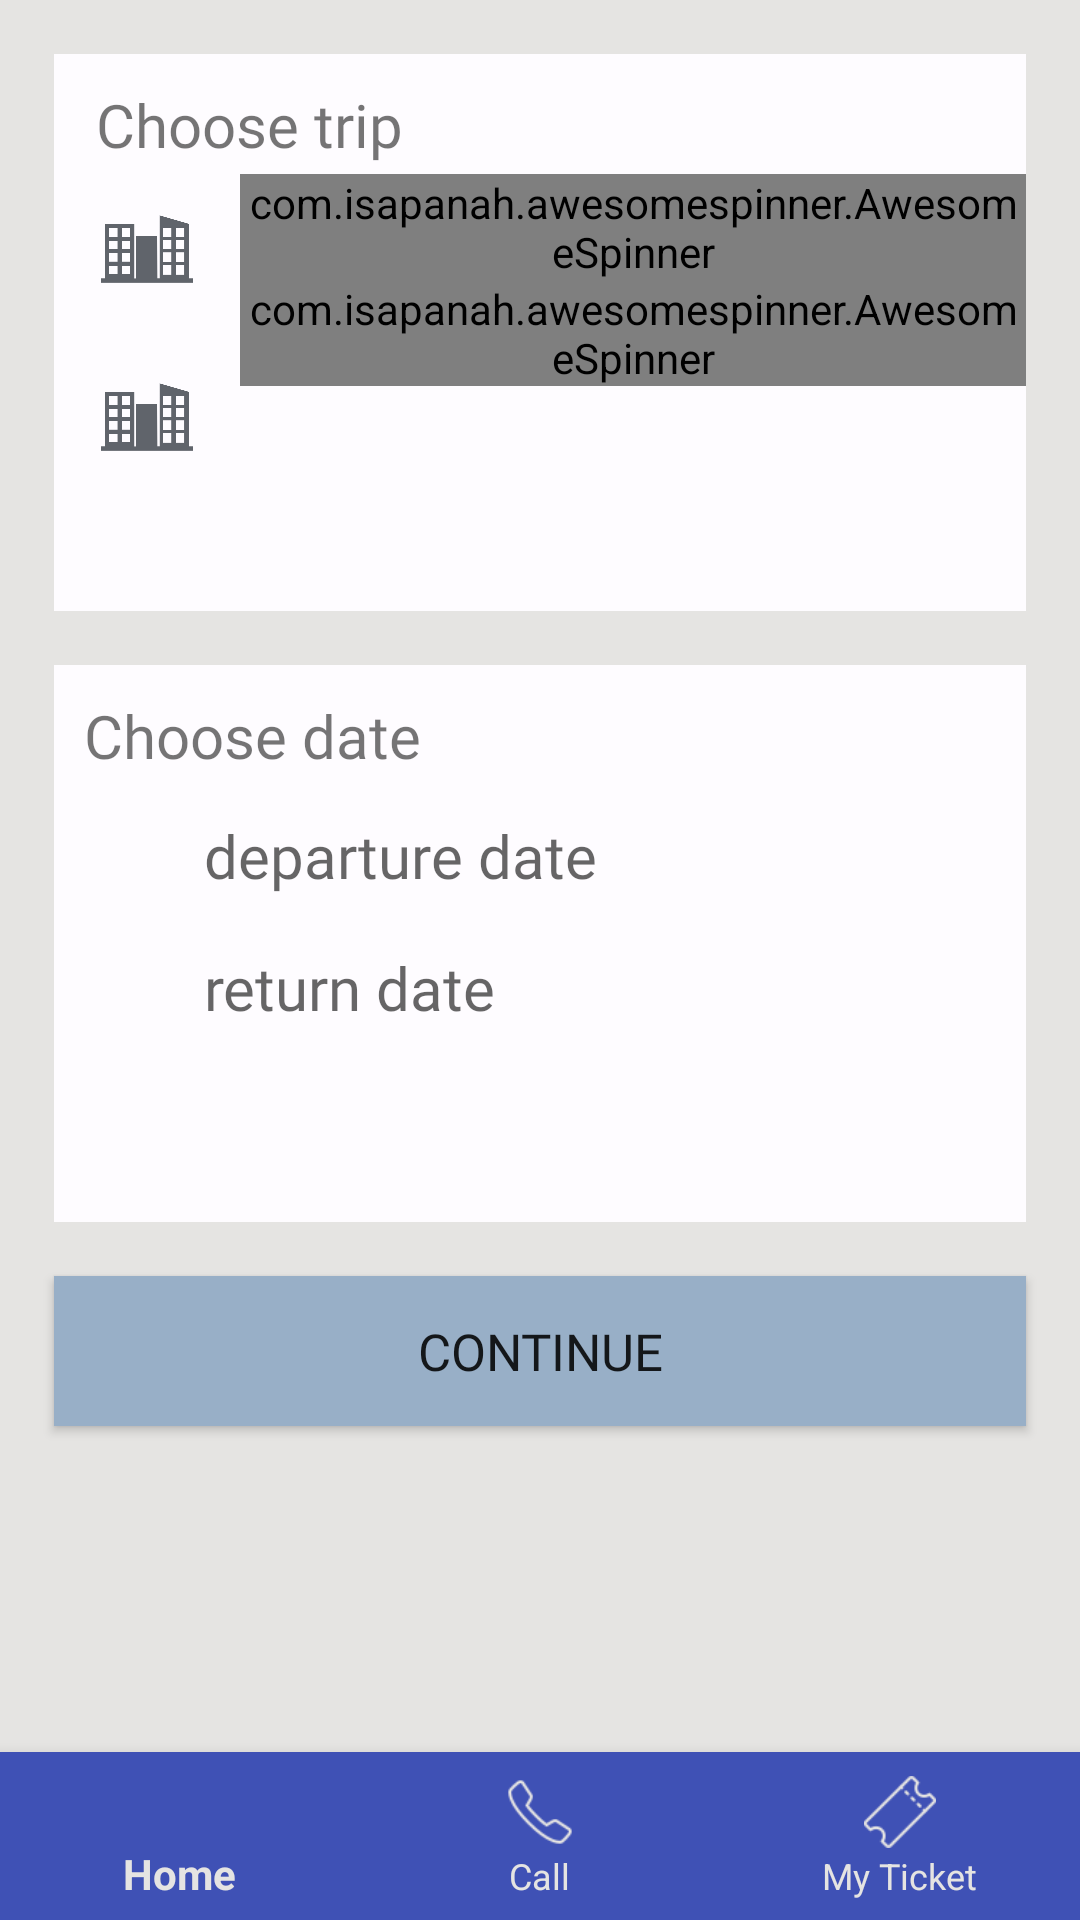

Named icons in this screenshot (1080*1920) and their centers, (x,y):
location: (147,249), (147,417)
